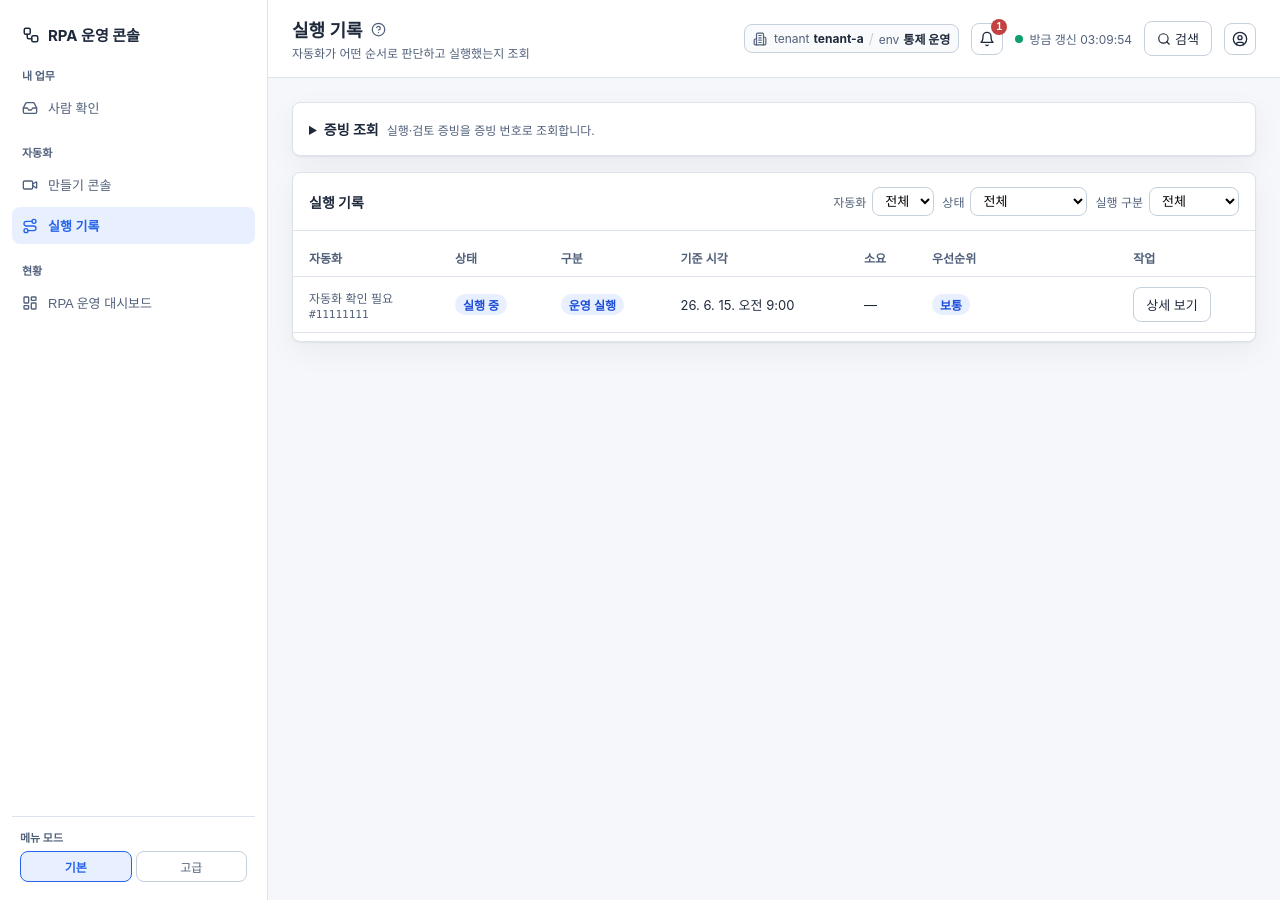
Test case: 실행 상세 상태 패널 — 터미널 상태(F3) › failed_system + 미매핑 단계 예외 → 최근 단계에 generic + 진단 코드로 표시
Click the button with aria-label "실행 추적 상세 보기" at [1172, 304], box [1133,287,1211,322]
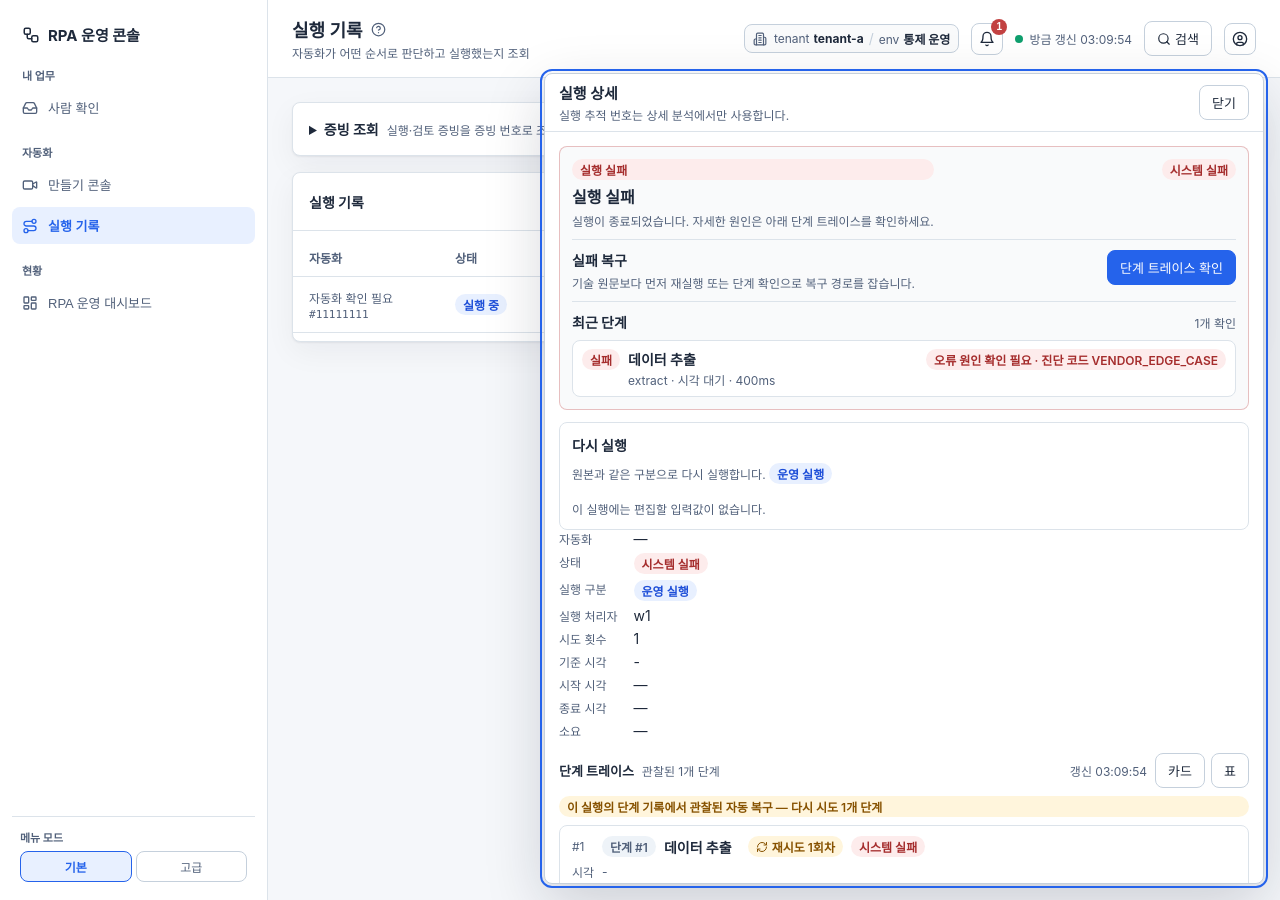
Result: the text "오류 원인 확인 필요 · 진단 코드 VENDOR_EDGE_CASE" is shown at [926,349,1226,370]
Result: the element named "테스트 실행 상태" shows "오류 원인 확인 필요" at [934,353,1218,368]
